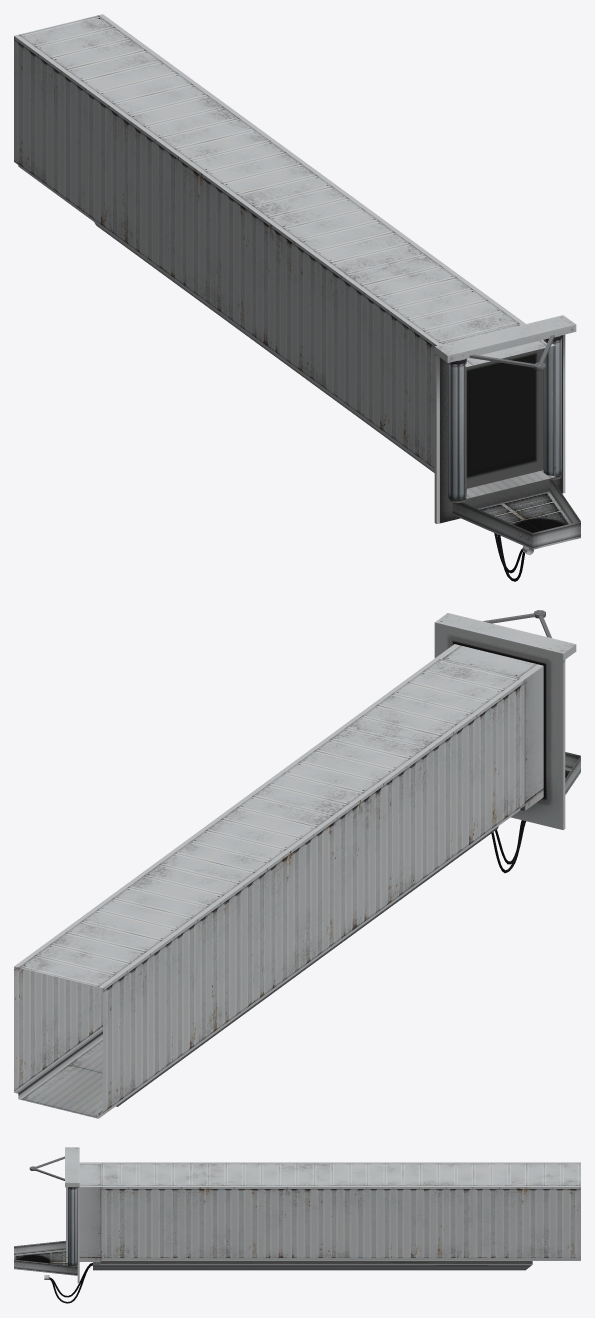
Rendered from jw_tunnel_2_9a.gltf.
3 renders of one model, top to bottom at view 1: azimuth 30°, elevation 25°; view 2: azimuth 150°, elevation 25°; view 3: azimuth 270°, elevation 25°, orthographic. The views are drawn at different scales.
Parts seen in each view (by area): view 1: jw_tunnel_2_9a; view 2: jw_tunnel_2_9a; view 3: jw_tunnel_2_9a.
Part boxes in pixels (x1,y1,x2,y2): jw_tunnel_2_9a: (14,14,580,581); jw_tunnel_2_9a: (14,610,580,1118); jw_tunnel_2_9a: (14,1147,580,1303).
Size of the model in its own units: 2.4 by 4.33 by 16.12.
